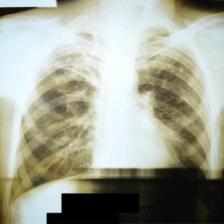tuberculosis: (4, 16, 214, 206)
